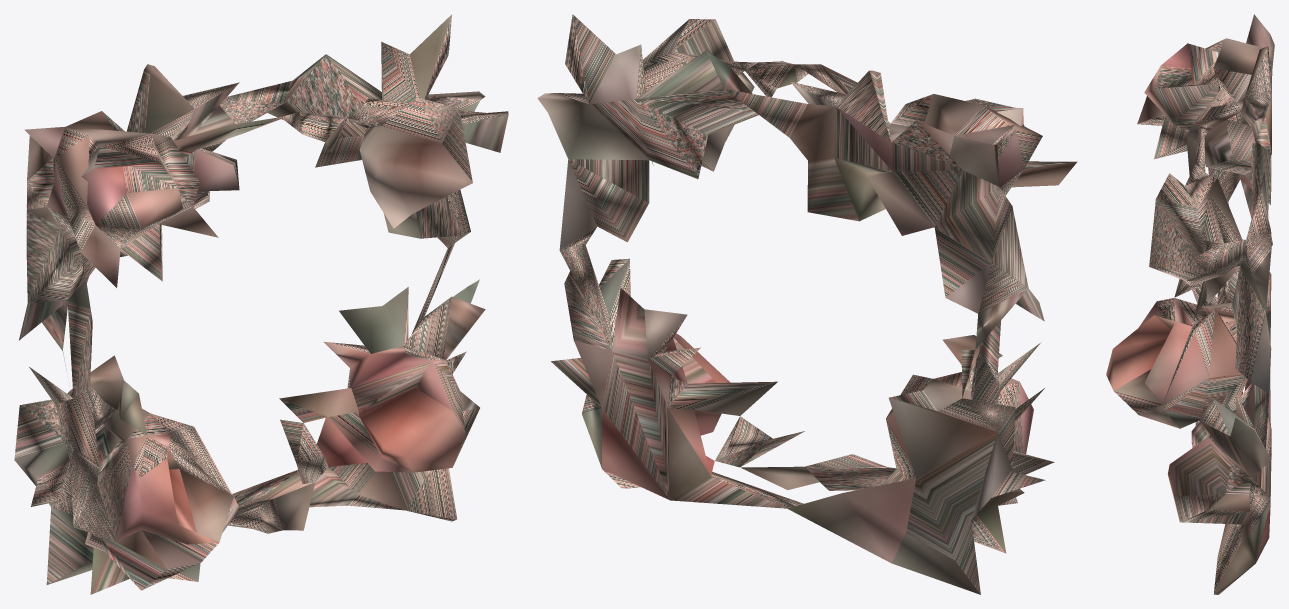
The picture shows the model from 3 angles, left to right: view 1: azimuth 30°, elevation 25°; view 2: azimuth 150°, elevation 25°; view 3: azimuth 270°, elevation 25°; orthographic projection. The views are drawn at different scales.
Visible parts, largest first — view 1: Rose-Frame-9-03; view 2: Rose-Frame-9-03; view 3: Rose-Frame-9-03.
Part boxes in pixels (left/top/right/bottom): Rose-Frame-9-03: left=14, top=14, right=508, bottom=594; Rose-Frame-9-03: left=537, top=14, right=1077, bottom=594; Rose-Frame-9-03: left=1106, top=14, right=1274, bottom=594.
Bounding box in the file's own units: 0.244 × 0.2435 × 0.0859.
1 material, 1 textured.
